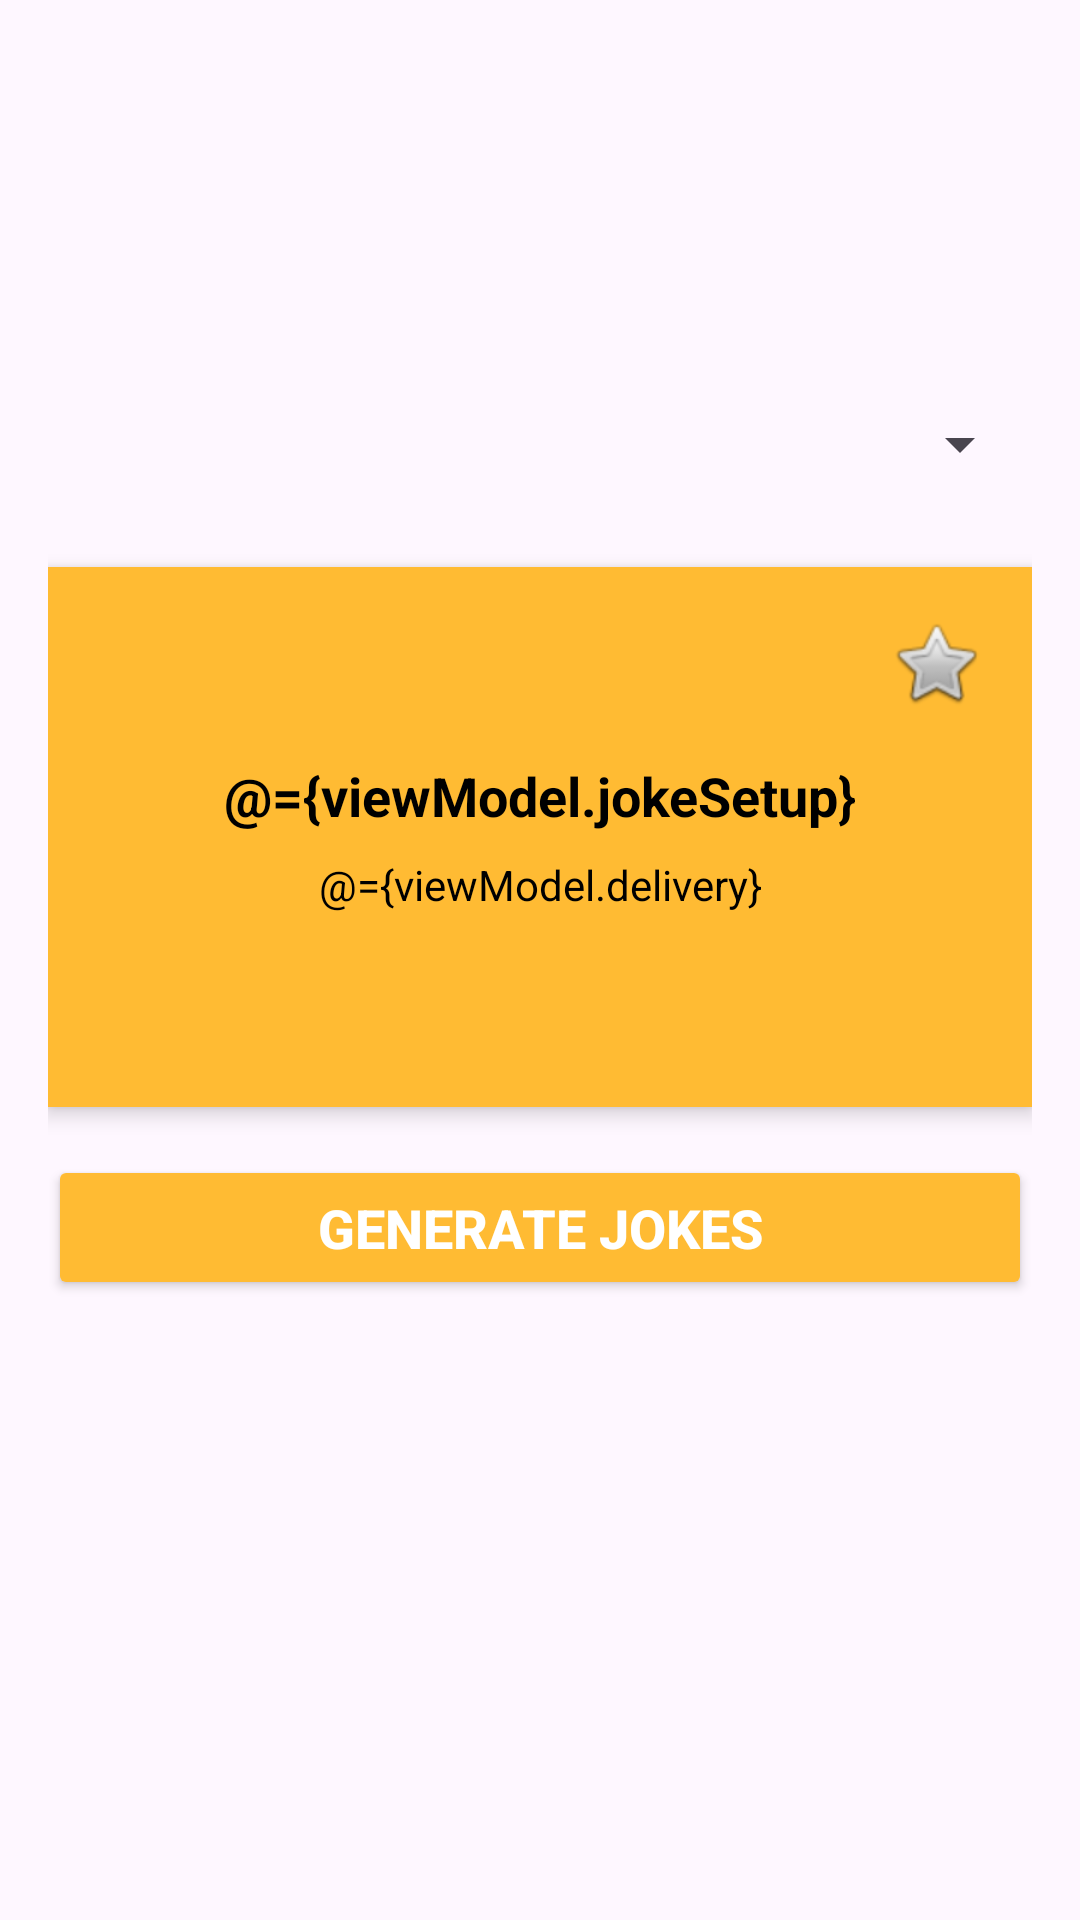

Point at icon controls on the screen. Image size 1080 × 1920, points as (x,y).
Favorite Button: (937,664)
